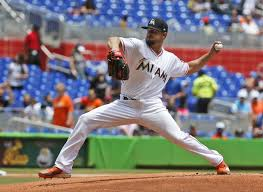baseball: (214, 41, 224, 53)
baseball player: (39, 16, 232, 180)
